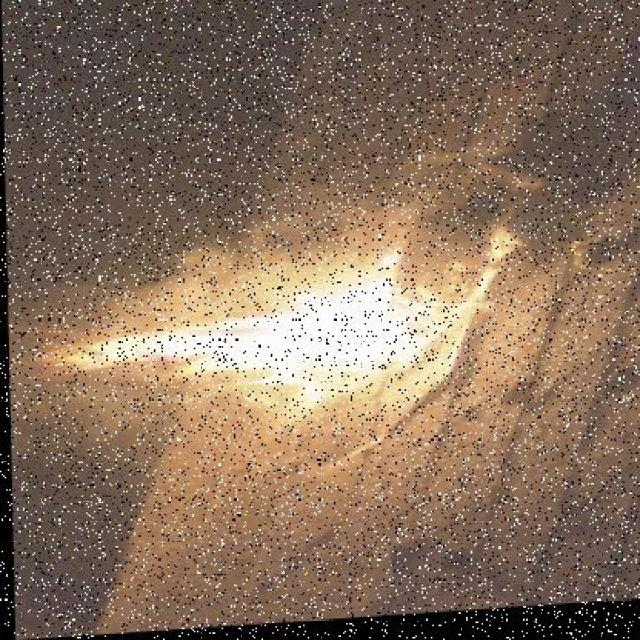fire: (24, 202, 484, 455)
